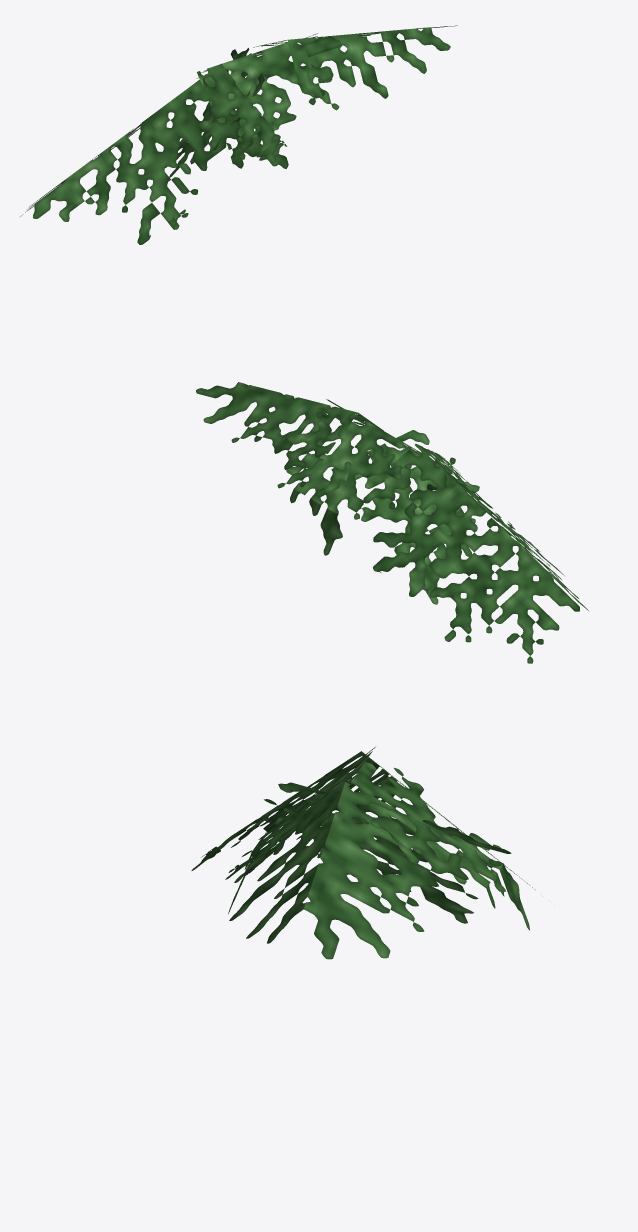
The model's file is spruce_leaves_slab_2.obj.
3 renders of one model, top to bottom at view 1: azimuth 30°, elevation 25°; view 2: azimuth 150°, elevation 25°; view 3: azimuth 270°, elevation 25°, orthographic. The views are drawn at different scales.
Parts seen in each view (by area): view 1: plane, cube; view 2: plane, cube; view 3: plane, cube.
Boxes of the visible parts, left/top/right/bottom form: plane: left=20, top=25, right=457, bottom=244; cube: left=165, top=48, right=264, bottom=177; plane: left=196, top=382, right=588, bottom=663; cube: left=316, top=430, right=479, bottom=604; plane: left=191, top=747, right=535, bottom=959; cube: left=264, top=782, right=511, bottom=923.
Size of the model in its own units: 2.93 by 1.06 by 1.7.
